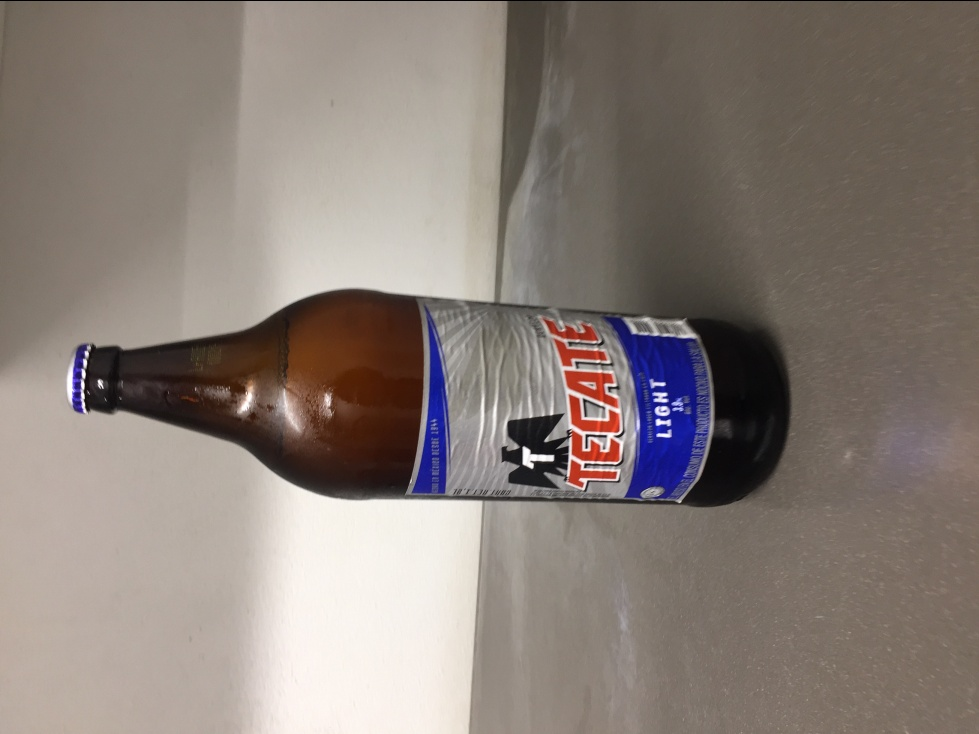tecateC: (69, 286, 783, 504)
